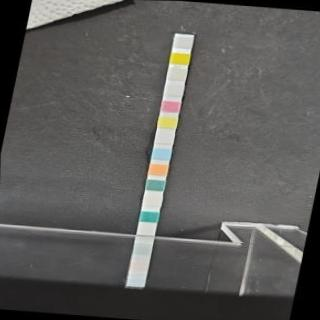mark: (158, 115, 178, 129), (170, 53, 190, 66), (163, 83, 183, 96), (148, 164, 168, 177), (150, 148, 170, 160), (146, 178, 166, 190), (161, 100, 180, 112), (155, 131, 174, 143), (142, 195, 161, 207), (174, 37, 192, 49), (140, 211, 158, 223), (167, 69, 186, 80)
